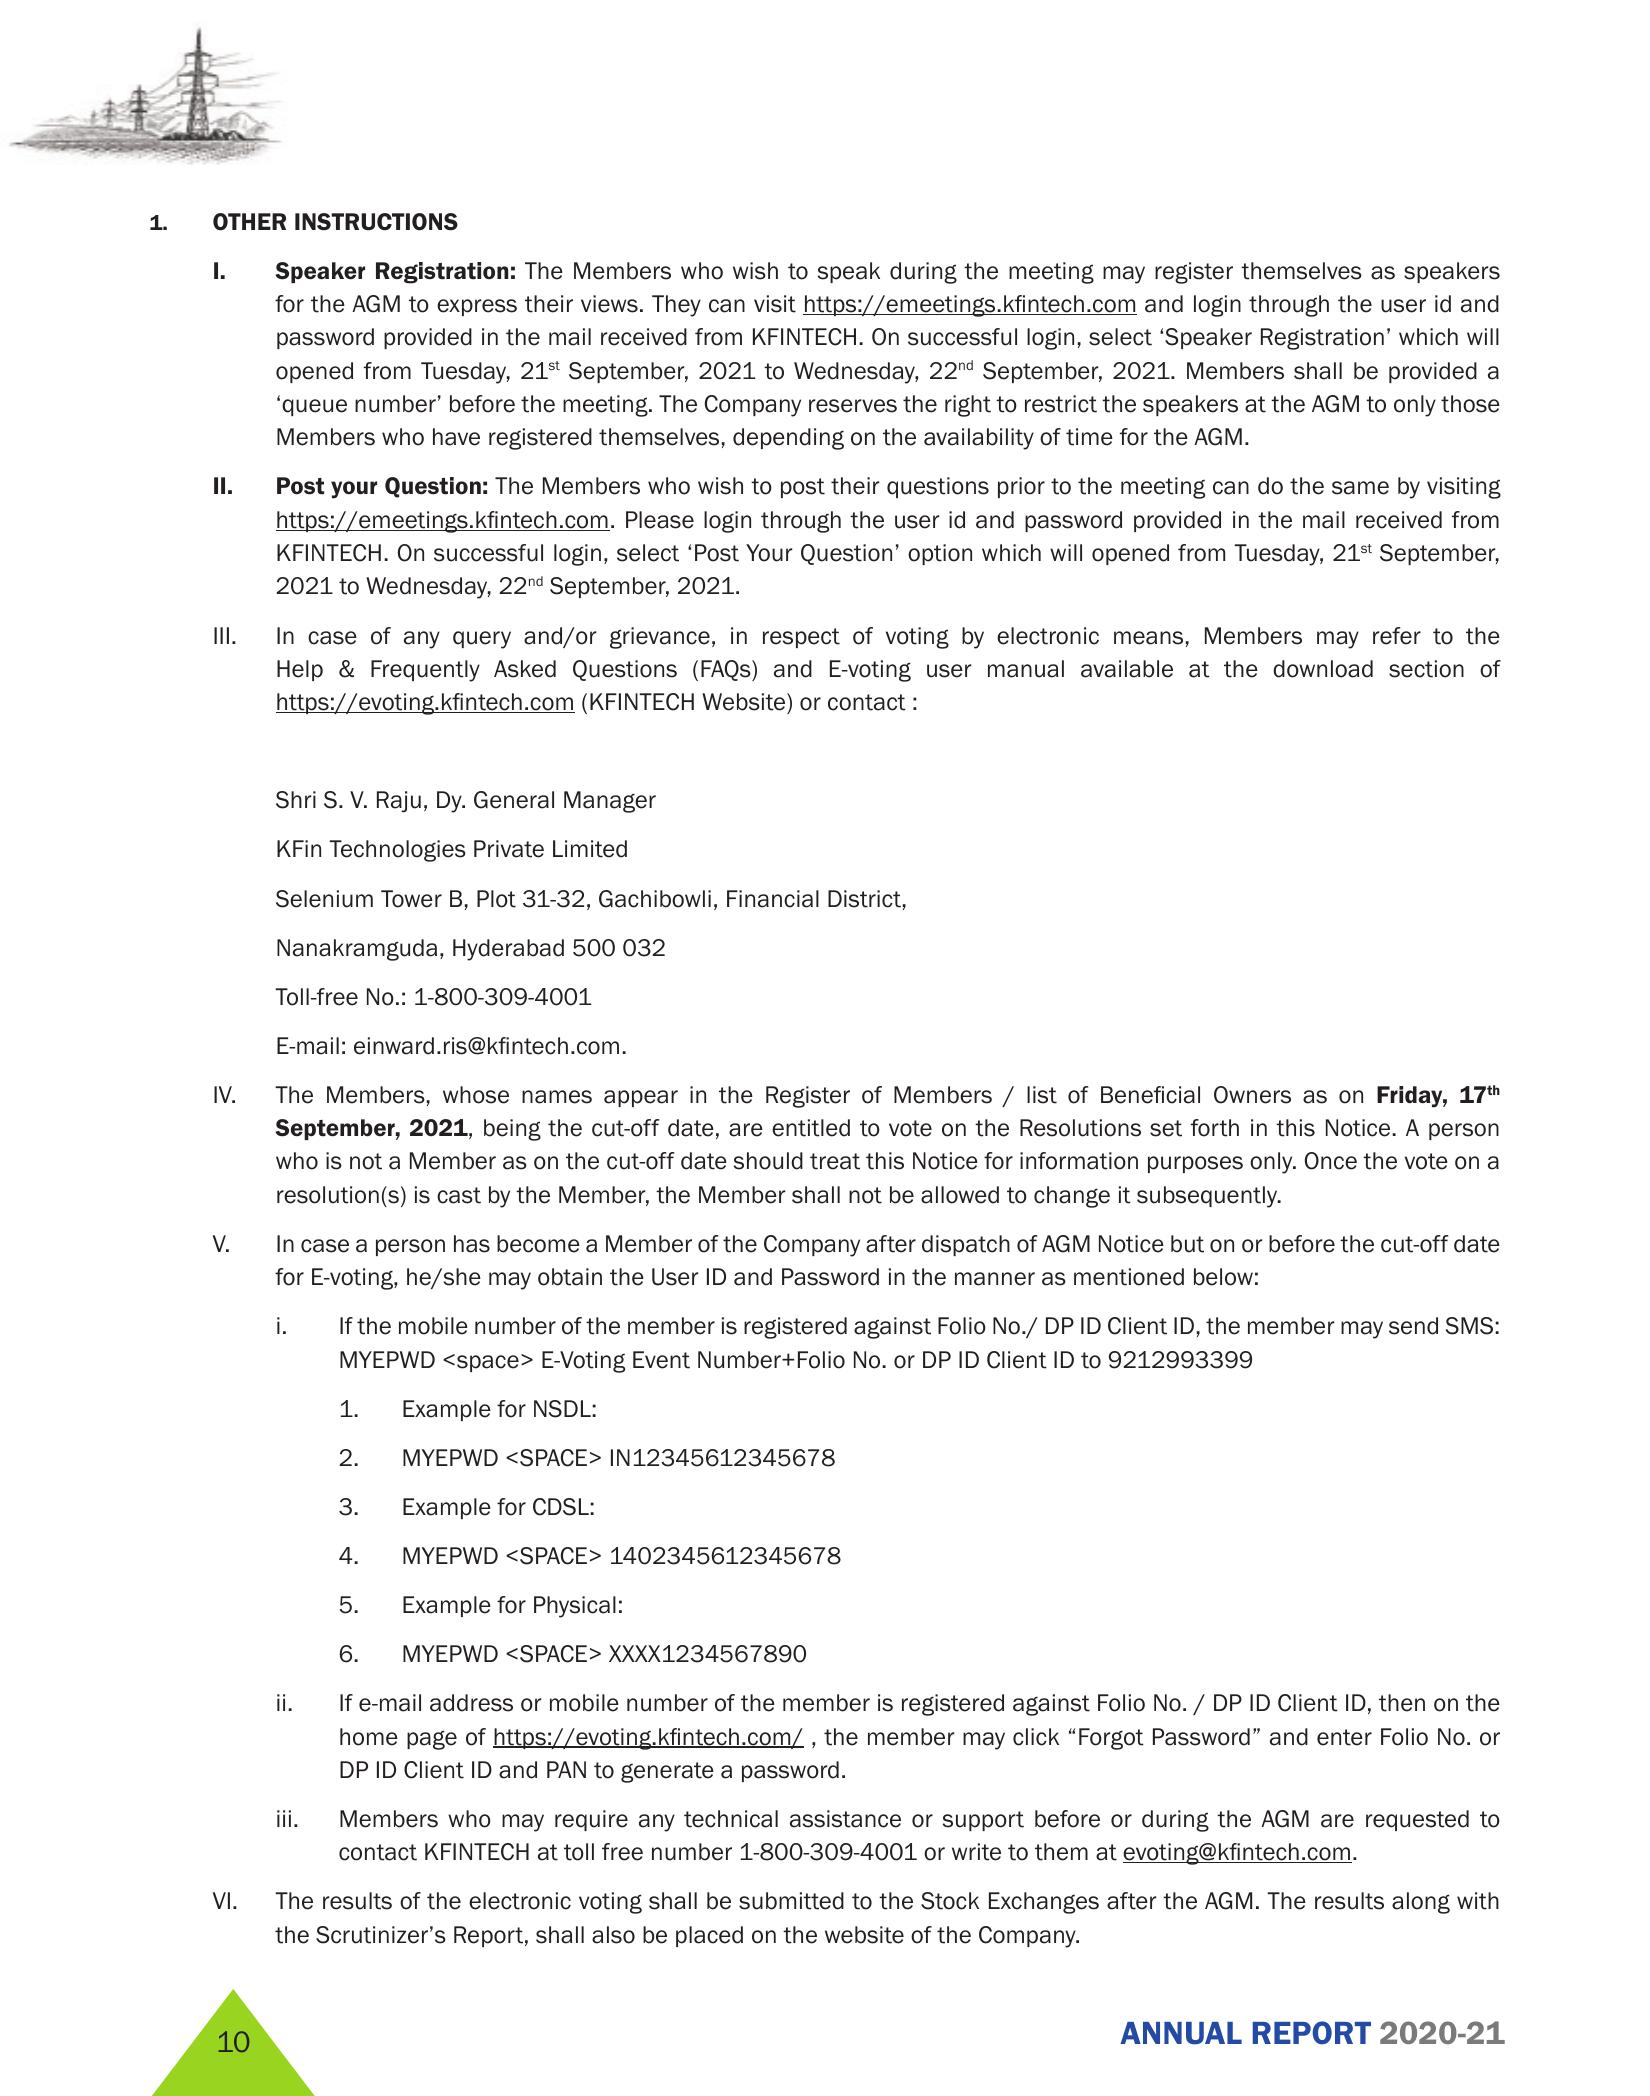Footer: (3, 1982, 1650, 2096)
Header: (0, 0, 1650, 189)
